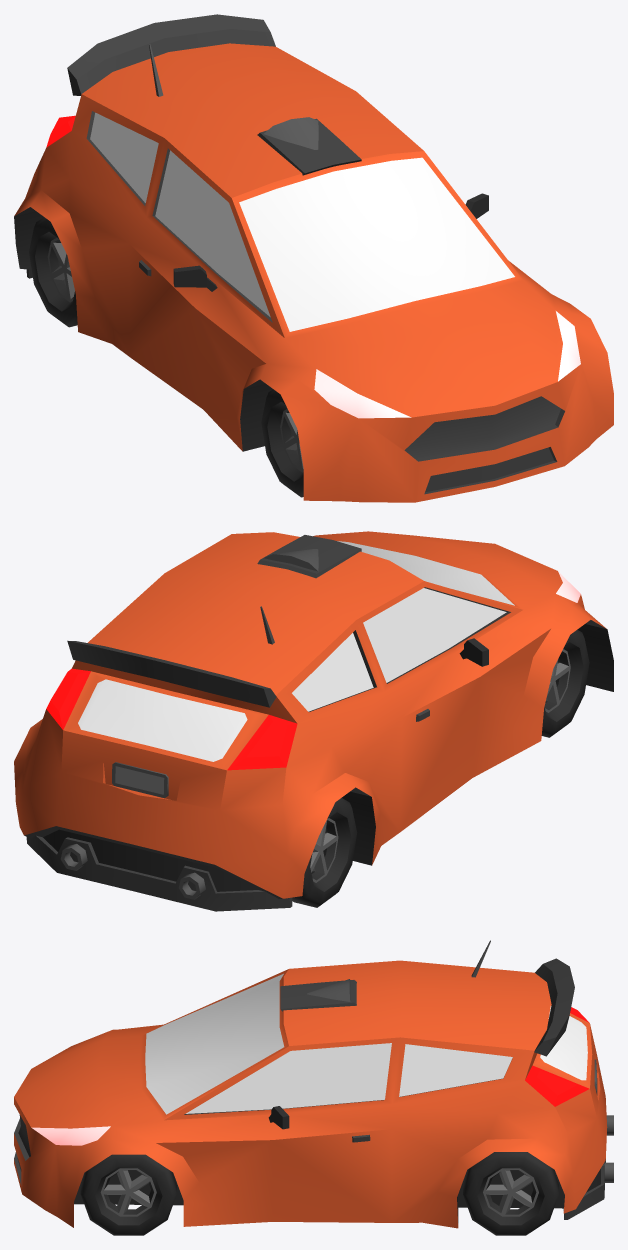
Rendered from car_cube053.glb.
3 views of the same model, one above another, from view 1: azimuth 30°, elevation 25°; view 2: azimuth 150°, elevation 25°; view 3: azimuth 270°, elevation 25° (orthographic). The views are drawn at different scales.
Visible parts, largest first — view 1: Cube.053, Cube.067, Cylinder.031, Cylinder.052, Cube.066, Cube.054, Cylinder.042; view 2: Cube.053, Cube.138, Cube.067, Cylinder.031, Cylinder.052, Cube.066, Cube.069, Cylinder.050, Cylinder.042, Cube.054; view 3: Cube.053, Cylinder.031, Cylinder.052, Cube.067, Cube.066, Cube.138, Cylinder.042.
Part boxes in pixels (bbox=[...]): Cube.053: bbox=[14, 43, 613, 502]; Cube.067: bbox=[67, 14, 275, 95]; Cylinder.031: bbox=[29, 217, 77, 327]; Cylinder.052: bbox=[261, 389, 303, 497]; Cube.066: bbox=[257, 118, 361, 175]; Cube.054: bbox=[173, 193, 488, 291]; Cylinder.042: bbox=[264, 117, 318, 149]; Cube.053: bbox=[14, 531, 613, 898]; Cube.138: bbox=[26, 829, 292, 911]; Cube.067: bbox=[67, 640, 276, 707]; Cylinder.031: bbox=[292, 798, 357, 907]; Cylinder.052: bbox=[541, 629, 589, 737]; Cube.066: bbox=[257, 535, 361, 578]; Cube.069: bbox=[112, 762, 168, 798]; Cylinder.050: bbox=[60, 844, 205, 899]; Cylinder.042: bbox=[264, 549, 318, 571]; Cube.054: bbox=[459, 638, 488, 666]; Cube.053: bbox=[14, 960, 607, 1228]; Cylinder.031: bbox=[463, 1152, 558, 1235]; Cylinder.052: bbox=[80, 1154, 176, 1235]; Cube.067: bbox=[534, 958, 574, 1056]; Cube.066: bbox=[280, 980, 356, 1011]; Cube.138: bbox=[564, 1159, 605, 1219]; Cylinder.042: bbox=[307, 979, 350, 1001].
Size of the model in its own units: 2 by 1.62 by 4.02.
Materials: 3 (3 with a texture image).
